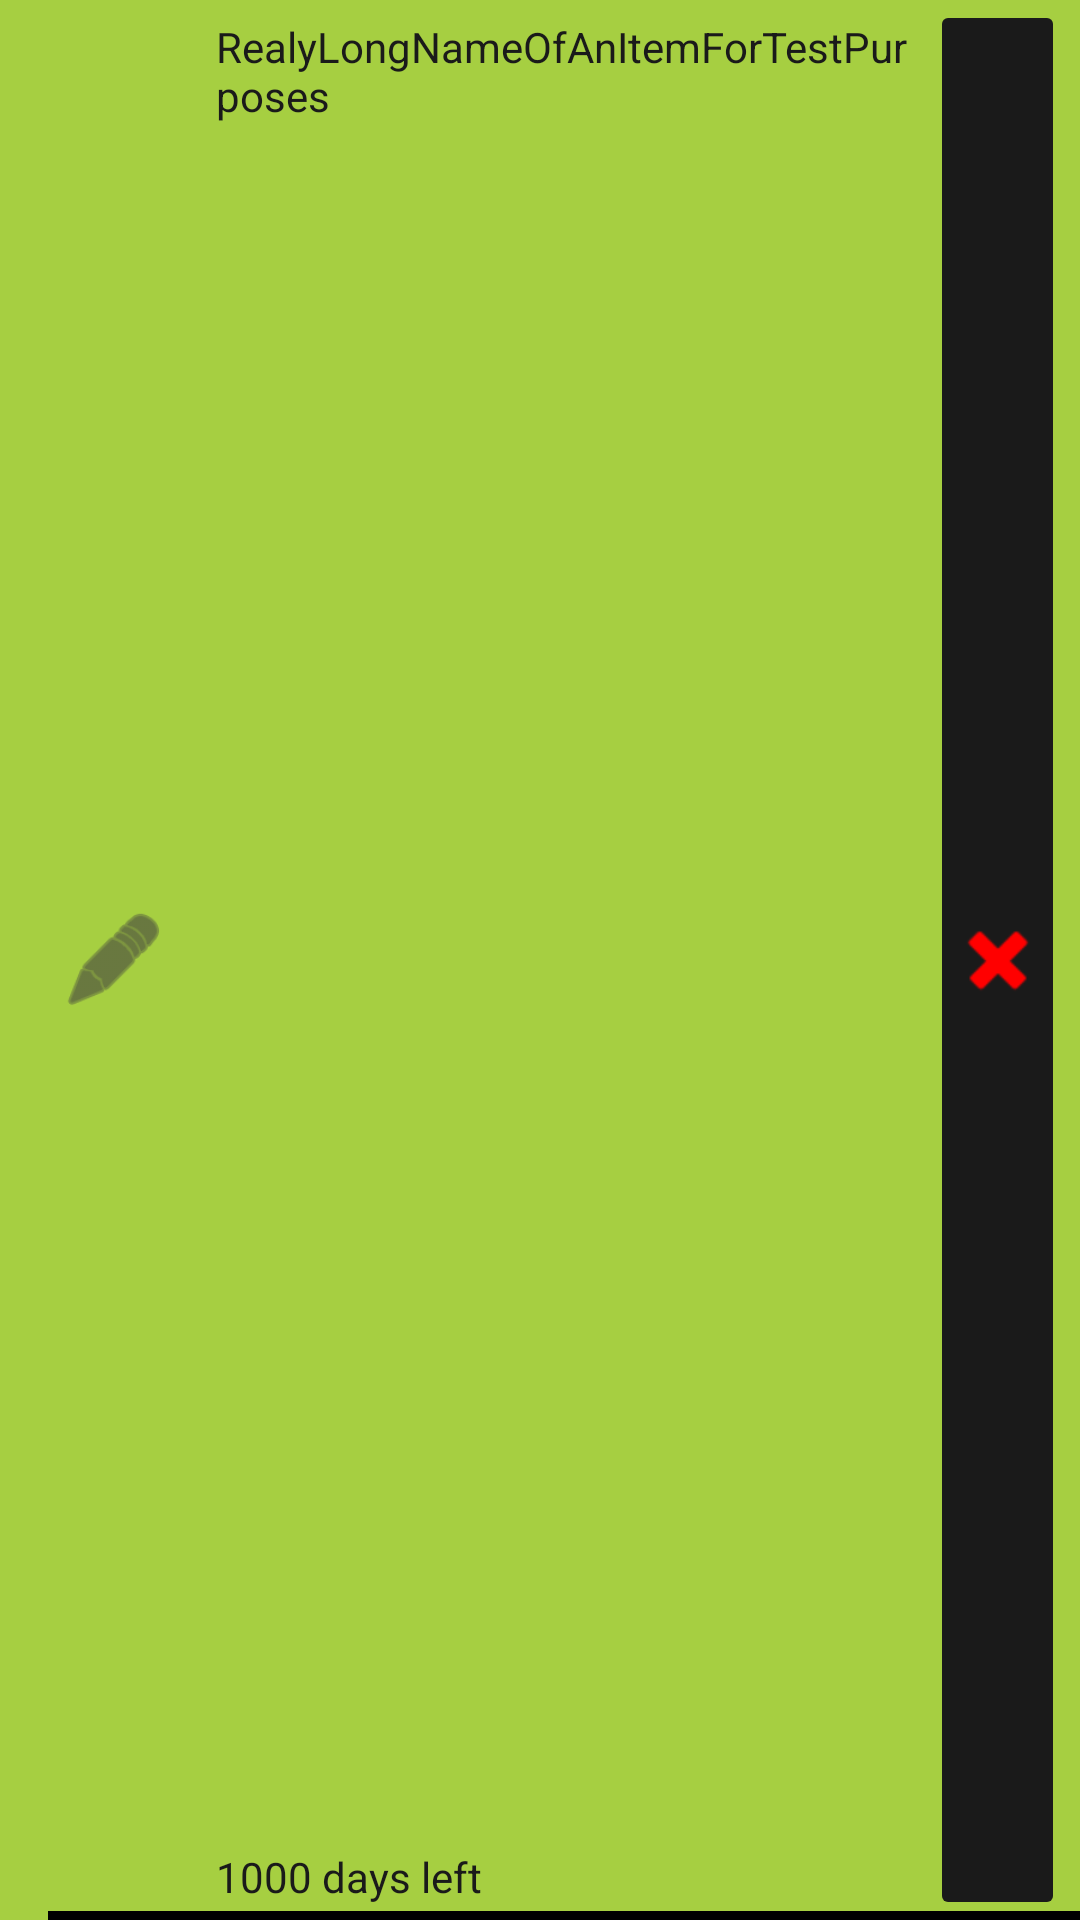

Icon bounding boxes for this 1080x1920 phone screenshot, format region(x1, y1, x2, y2):
edit: region(68, 914, 159, 1005)
